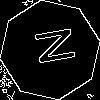N: (25, 25, 76, 68)
